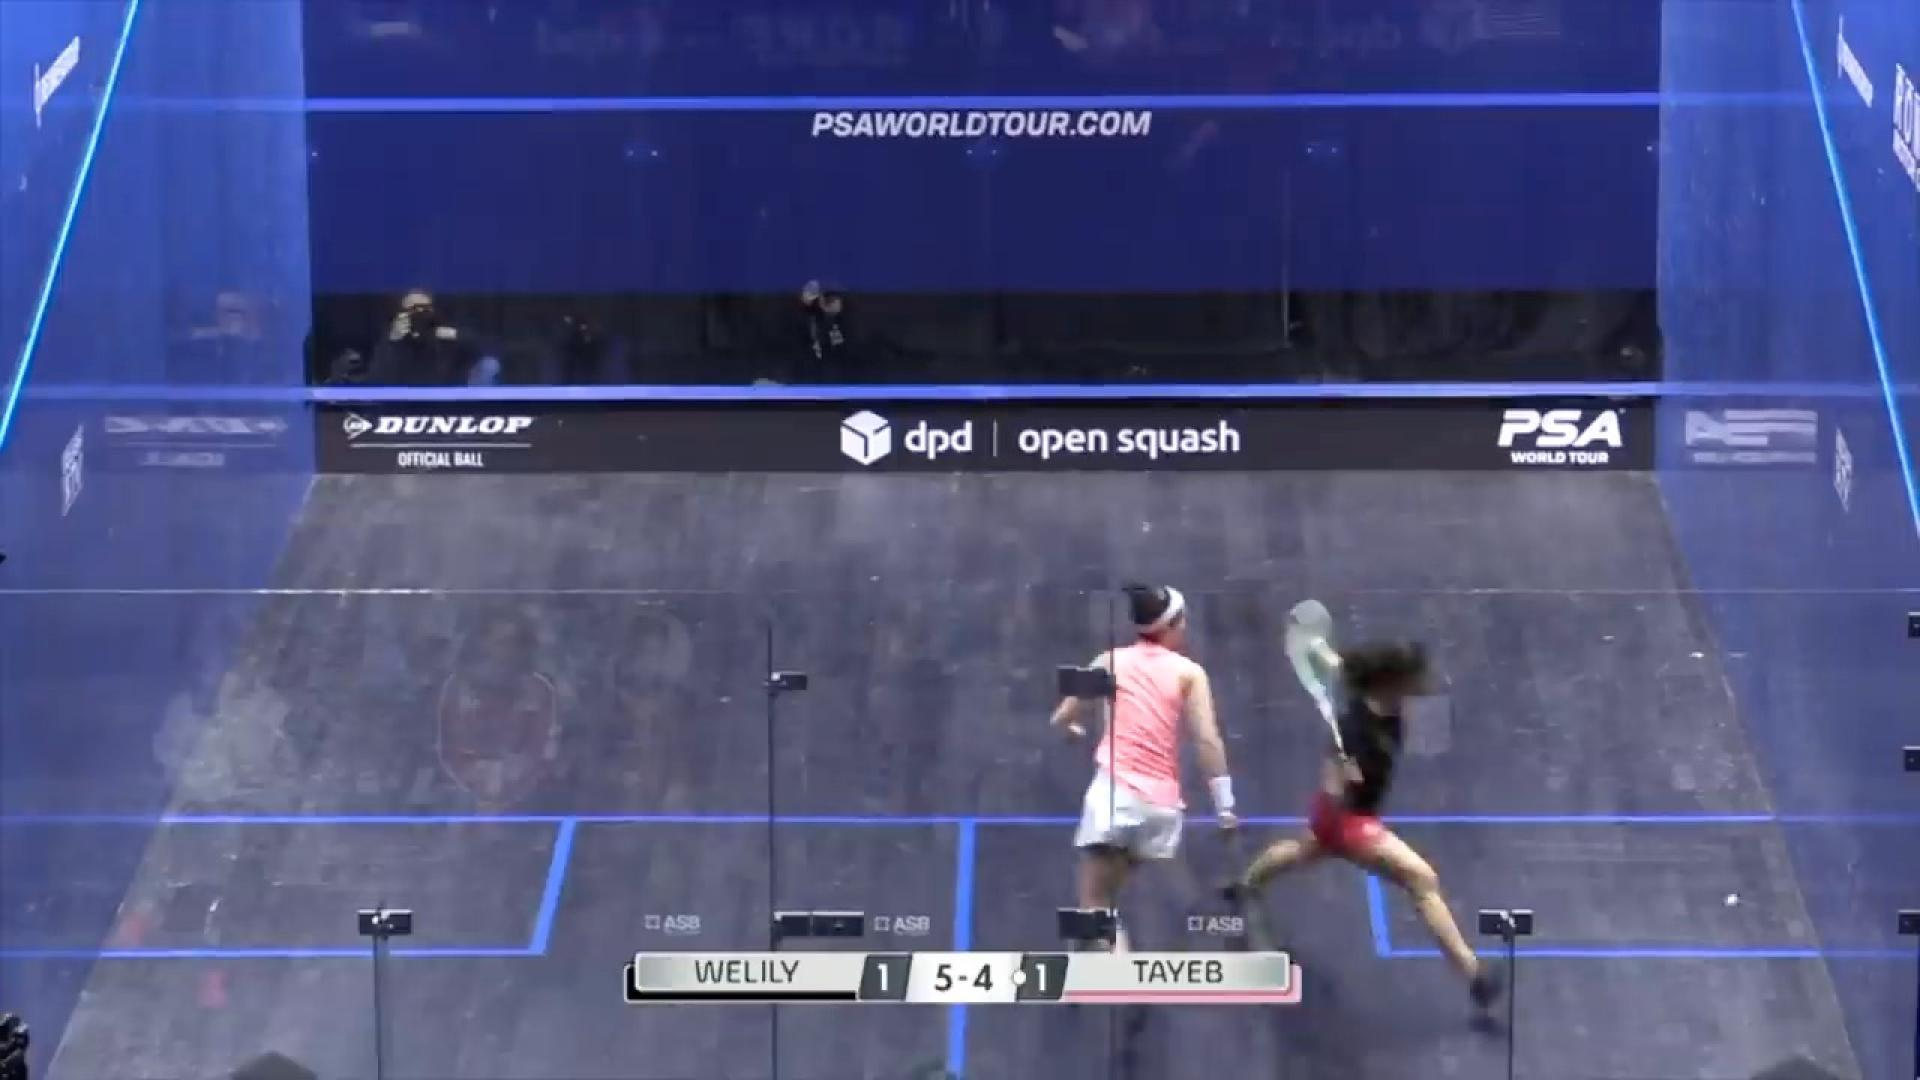Squash-Ball: (1705, 882, 1760, 918)
